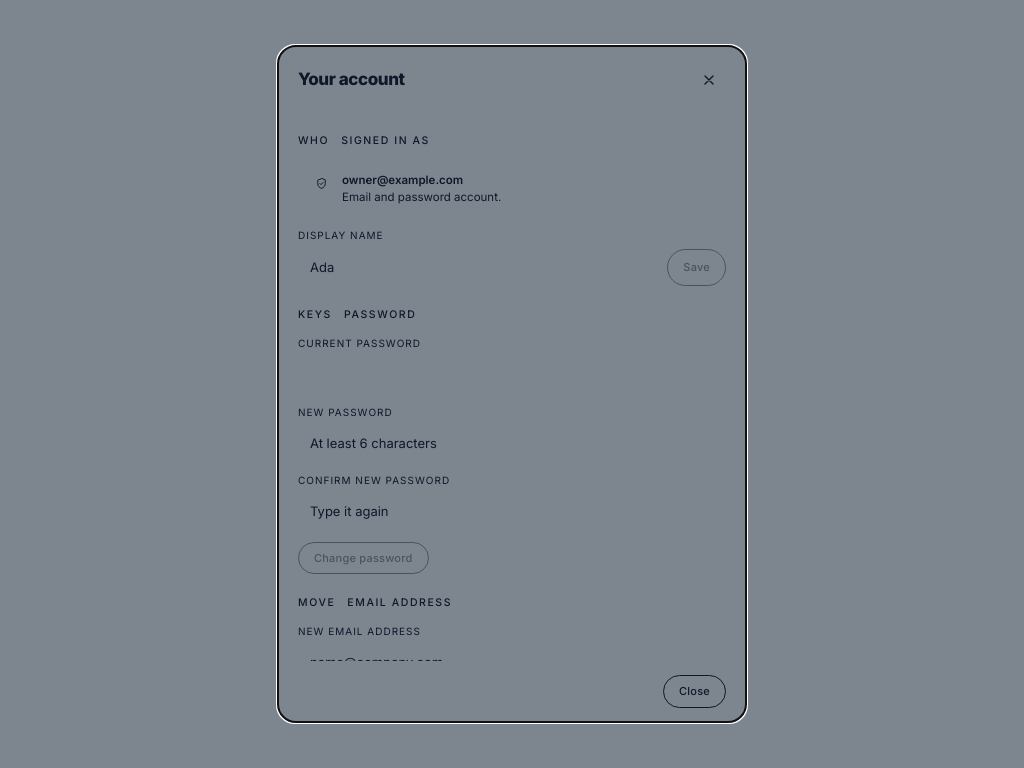
it: the display name › refuses a one-character name and says why
Replace the text in the field labelled "Display name" with "A" at (479, 267), box [298, 249, 659, 286]
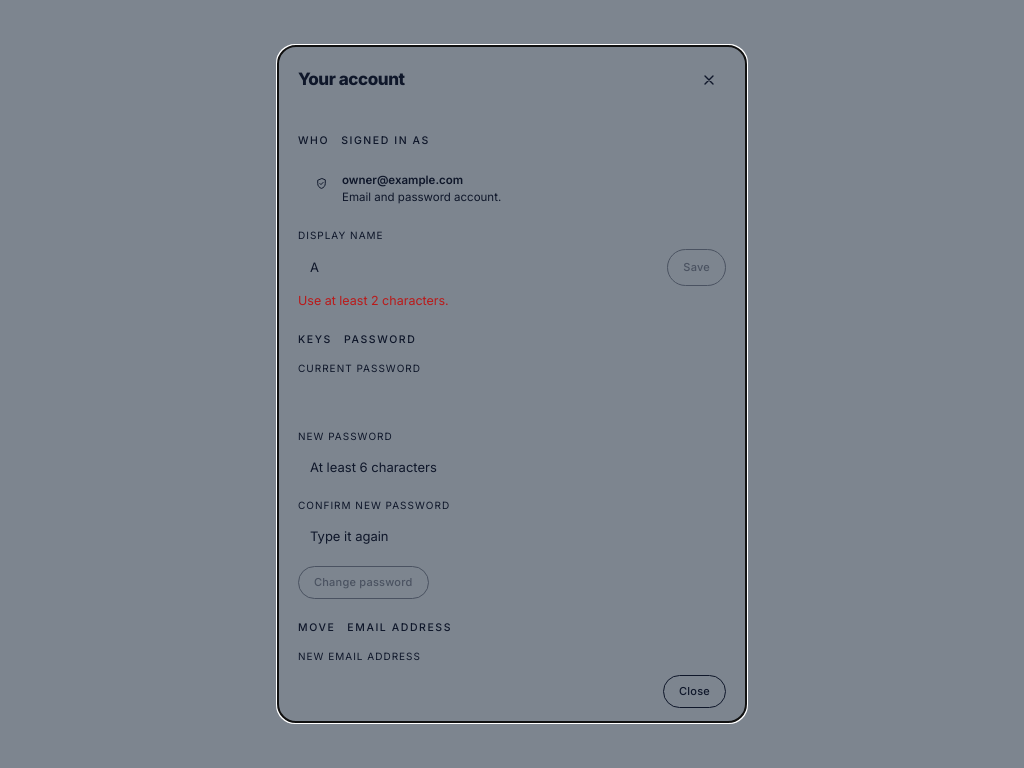
Expected: the button "Save" is disabled, [667, 249, 726, 286]
Now the text "Use at least 2 characters." is shown, box [298, 293, 449, 308]
